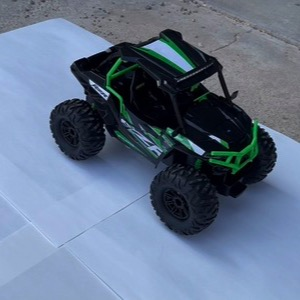polaris: (50, 29, 278, 237)
